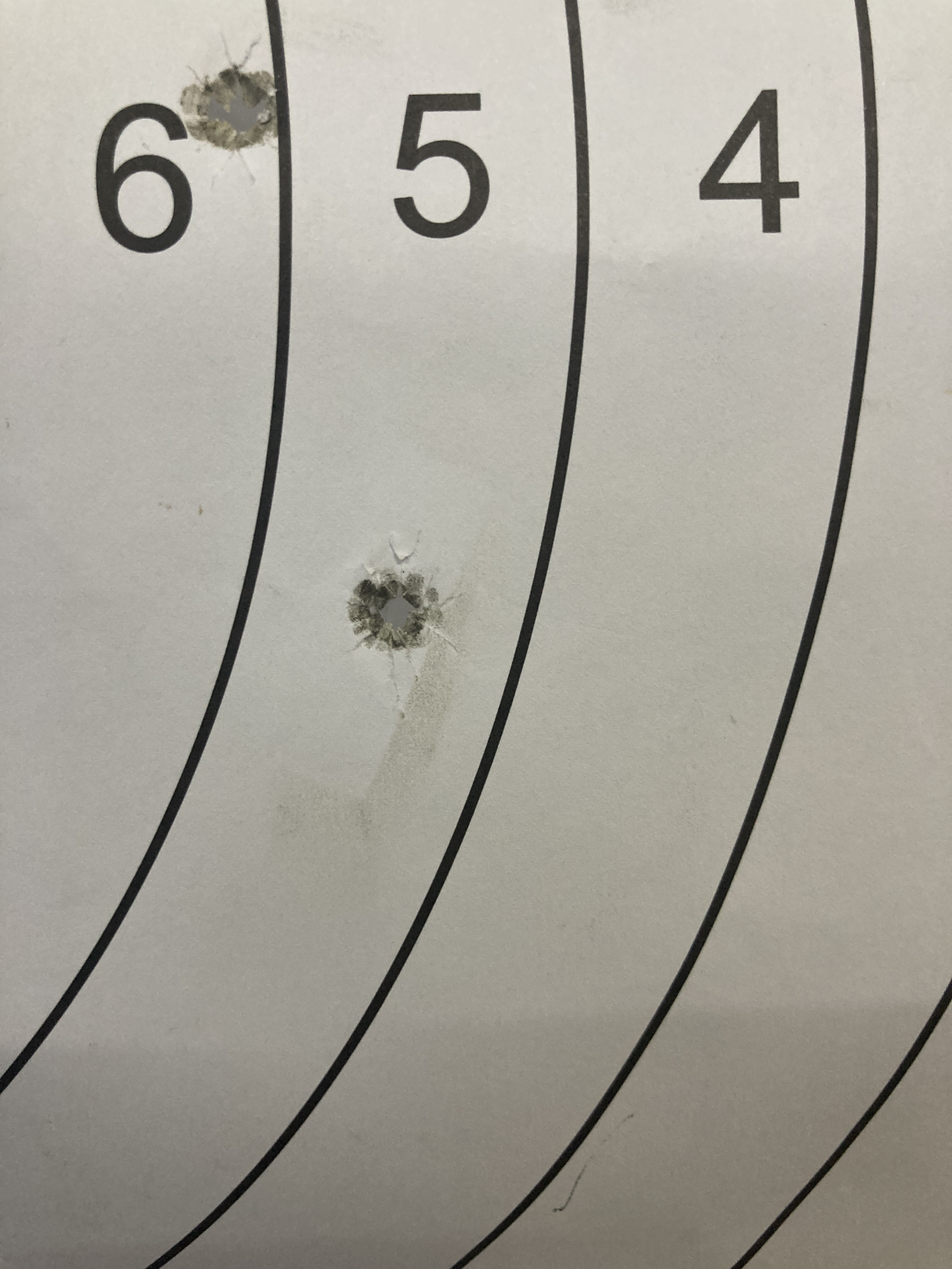hole: (151, 19, 327, 192), (331, 529, 469, 680)
